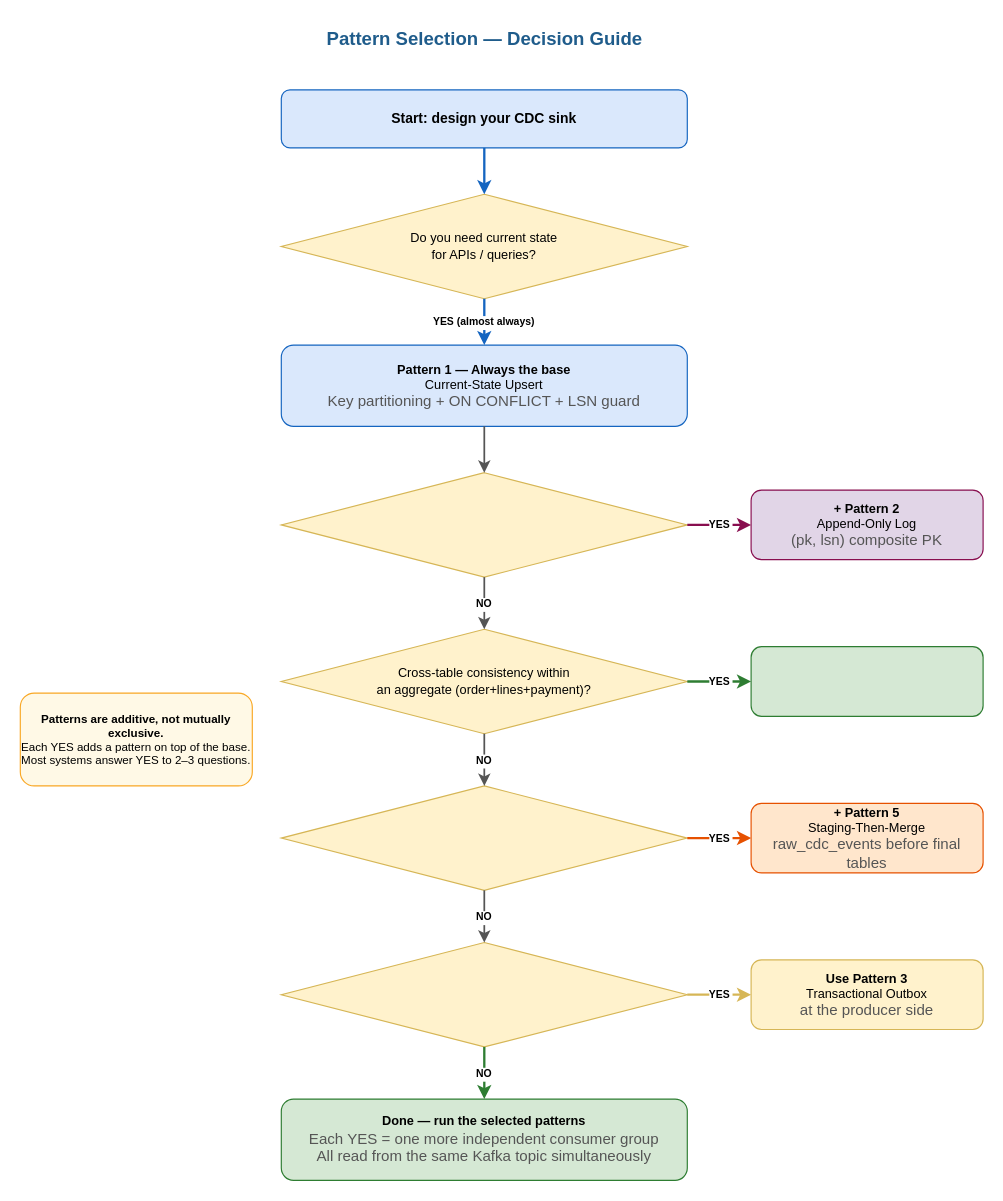
This 1003x1201 diagram has some shape labels left out. The shapes that lost their labels are listed below. From the top down, each one's centre as x and y in pixels, then its label:
At point (483, 524): "Need full history / audit trail / GDPR / event sourcing?".
At point (866, 681): "Use Pattern 4 Aggregate-Root Partitioning Partition by root key, not row PK".
At point (483, 837): "Regulated system or need replay without re-reading Kafka?".
At point (483, 994): "Strict exactly-once cross-service delivery required?".
